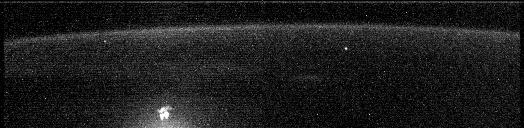positive: (153, 103, 177, 126)
